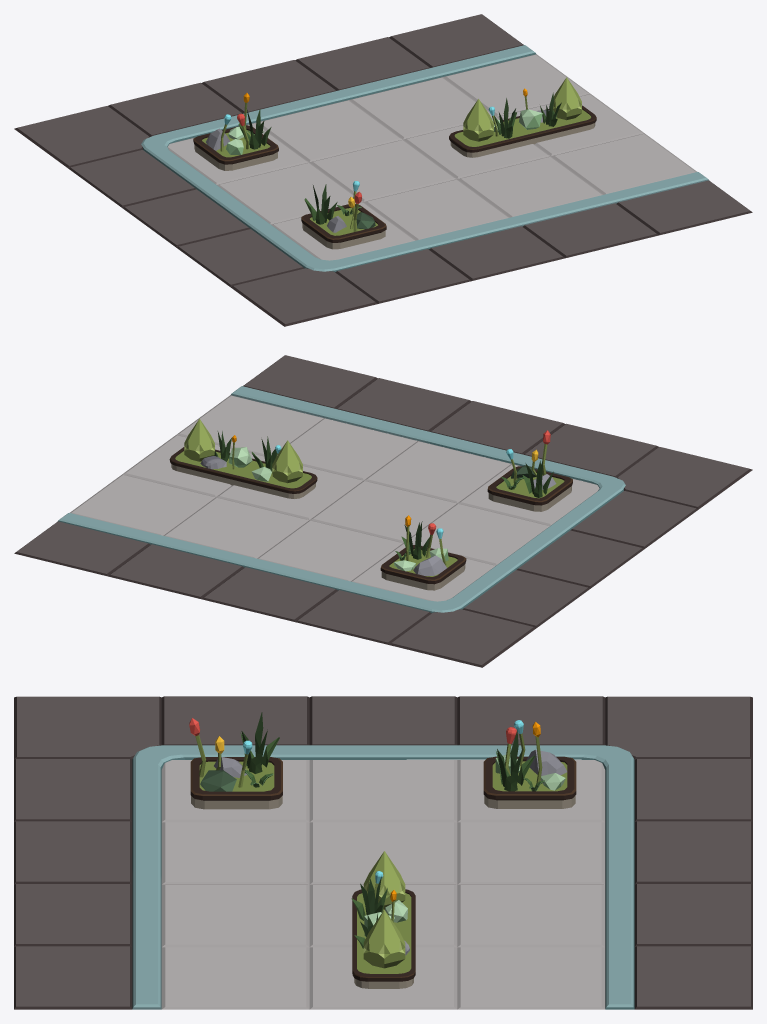
File: DeadEnd_D.glb
3 renders of one model, top to bottom at view 1: azimuth 30°, elevation 25°; view 2: azimuth 150°, elevation 25°; view 3: azimuth 270°, elevation 25°, orthographic. The views are drawn at different scales.
Parts seen in each view (by area): view 1: DeadEnd_D, Cube.299, Cube.298, Cube.297, Cone.142, Cone.143, Grass_03.679; view 2: DeadEnd_D, Cube.299, Cube.298, Cube.297, Cone.142, Cone.143; view 3: DeadEnd_D, Cube.298, Cube.299, Cube.297, Cone.143, Cone.142, Grass_03.678, Grass_03.679, Grass_03.681, Tree_03.1572, Rock_08.051, Flower03.1843.
Boxes of the visible parts, x1,y1,x2,y2 form: DeadEnd_D: [14, 14, 752, 326]; Cube.299: [449, 105, 596, 157]; Cube.298: [301, 204, 386, 249]; Cube.297: [193, 125, 278, 170]; Cone.142: [463, 99, 493, 141]; Cone.143: [552, 77, 581, 120]; Grass_03.679: [304, 184, 337, 224]; DeadEnd_D: [14, 355, 752, 667]; Cube.299: [169, 447, 317, 498]; Cube.298: [487, 466, 572, 511]; Cube.297: [380, 545, 466, 590]; Cone.142: [272, 440, 302, 483]; Cone.143: [184, 419, 214, 461]; DeadEnd_D: [14, 696, 752, 1009]; Cube.298: [190, 757, 282, 809]; Cube.299: [352, 889, 415, 988]; Cube.297: [483, 756, 576, 808]; Cone.143: [363, 910, 405, 968]; Cone.142: [363, 851, 405, 909]; Grass_03.678: [496, 729, 535, 791]; Grass_03.679: [240, 712, 279, 773]; Grass_03.681: [351, 876, 387, 920]; Tree_03.1572: [200, 770, 236, 791]; Rock_08.051: [526, 749, 567, 775]; Flower03.1843: [189, 718, 224, 777].
Size of what is drawn, in the model's own units: 16 by 1.87 by 16.
1 material, 1 textured.
